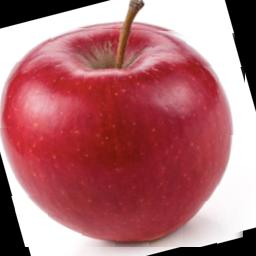Apple Fresh: (0, 26, 246, 247)
